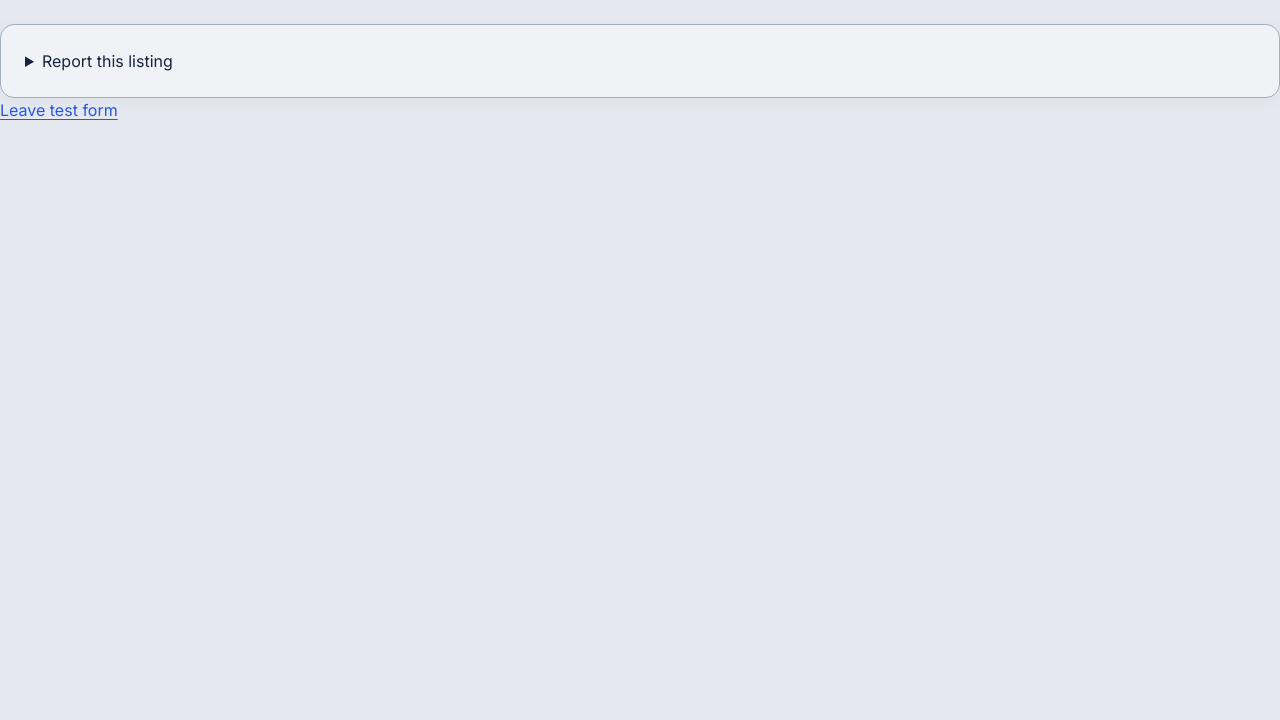
moderation controls › retains a report after failed save and stops blocking only after success
Click the heading "Report this listing": (107,61) [42, 51, 173, 71]
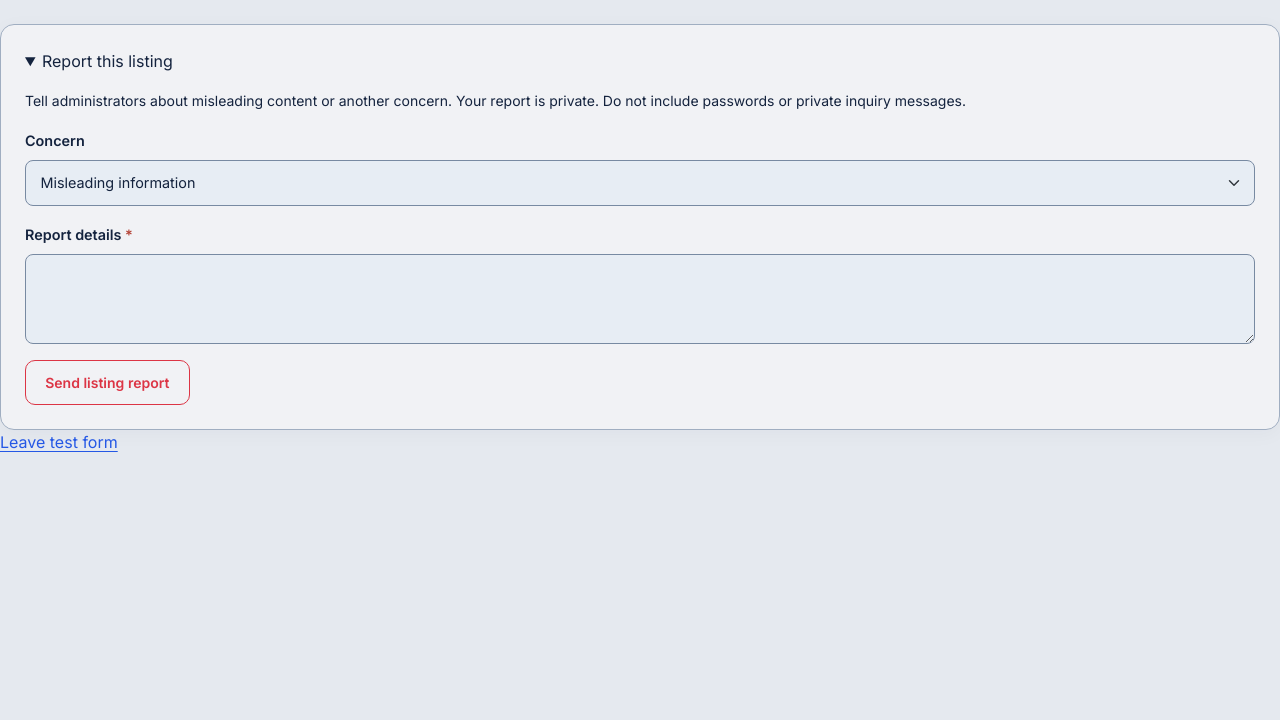
In the text box labelled "Report details": (640,299) [25, 254, 1255, 344], type "Synthetic report that must remain available."
Click the button "Send listing report": (107,382) [25, 360, 190, 405]
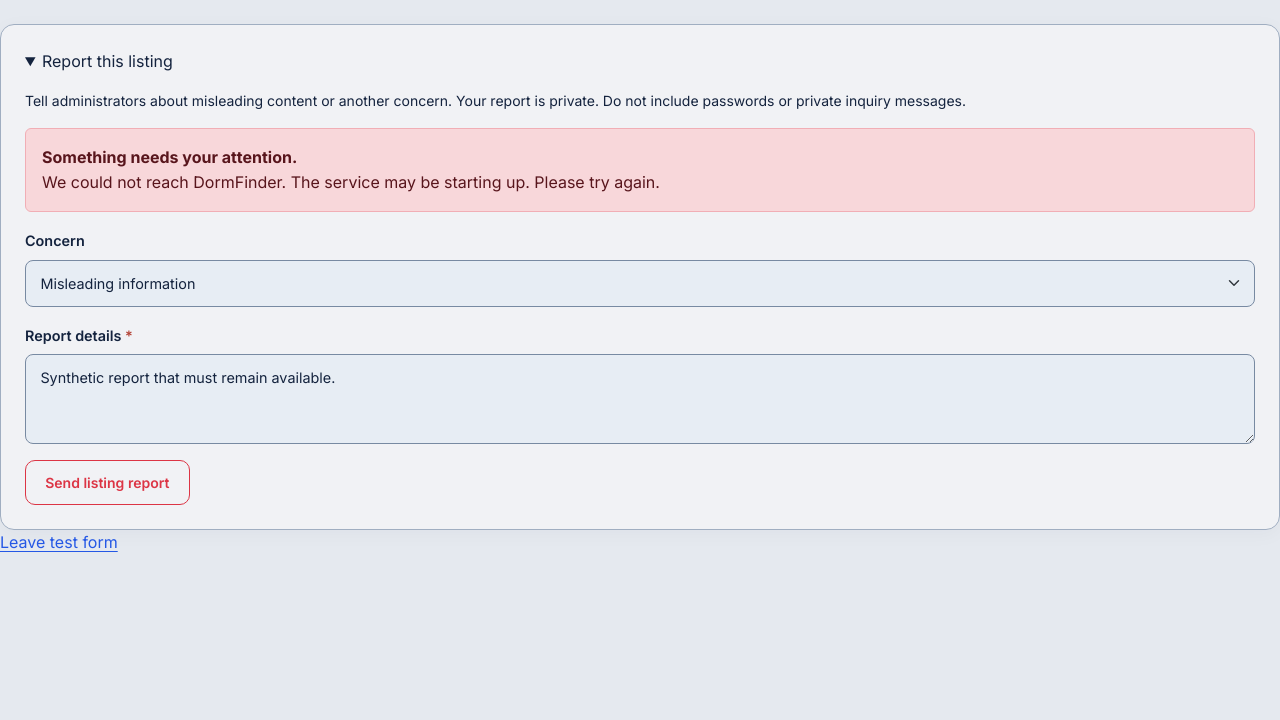
Result: the message is shown at [25, 128, 1255, 212]
Click the link "Leave test form": (59,542) [0, 532, 118, 552]
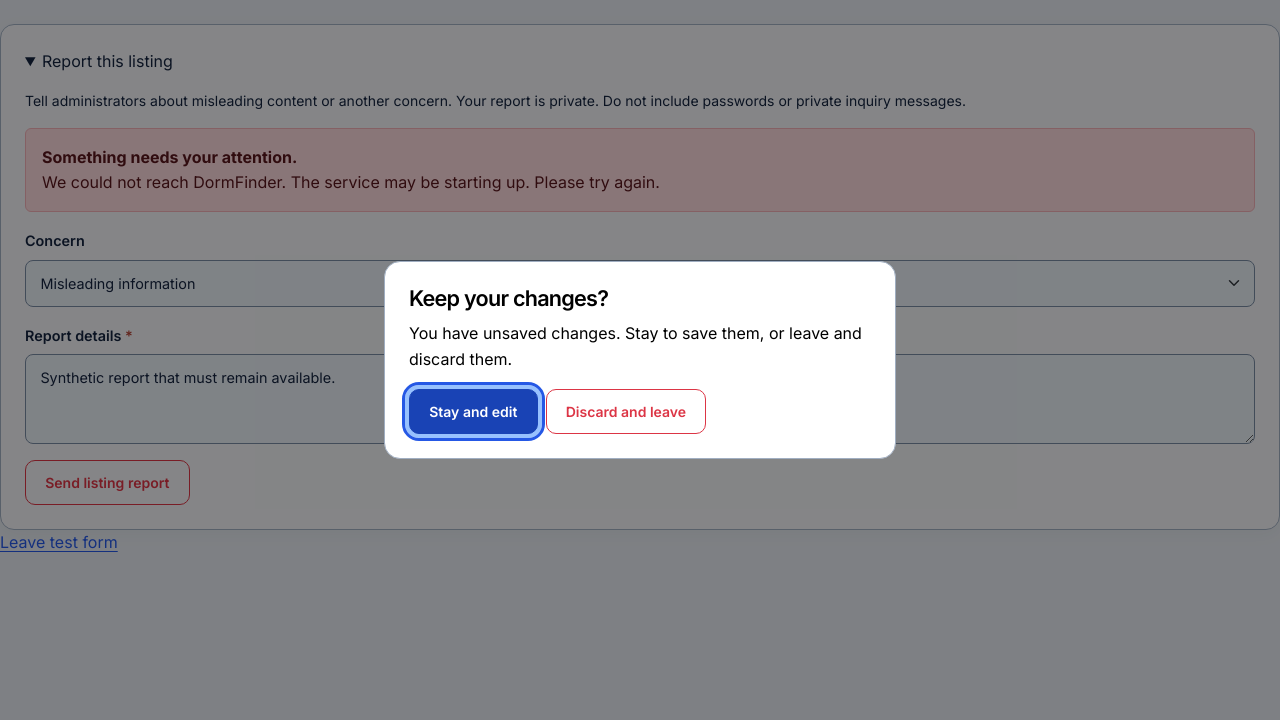
Result: the dialog is shown at [384, 261, 896, 459]
Click the button "Stay and edit": (473,411) [409, 389, 538, 434]
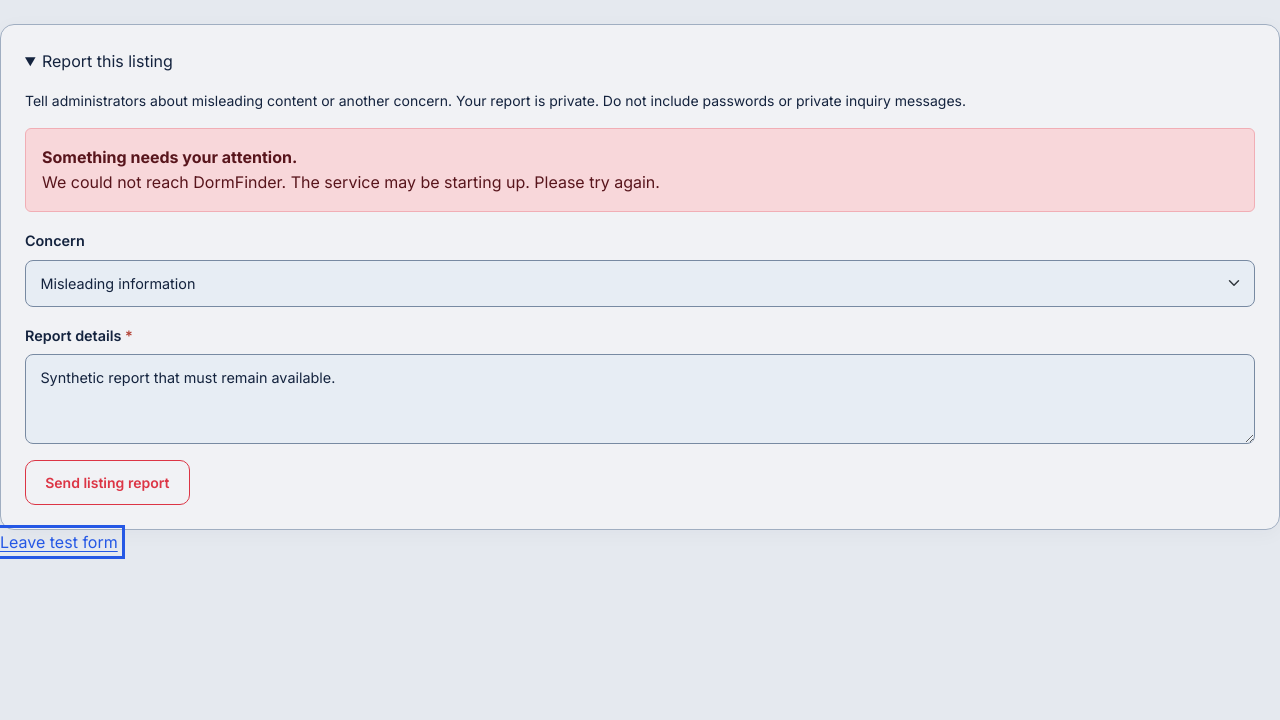
Click the button "Send listing report": (107,483) [25, 460, 190, 506]
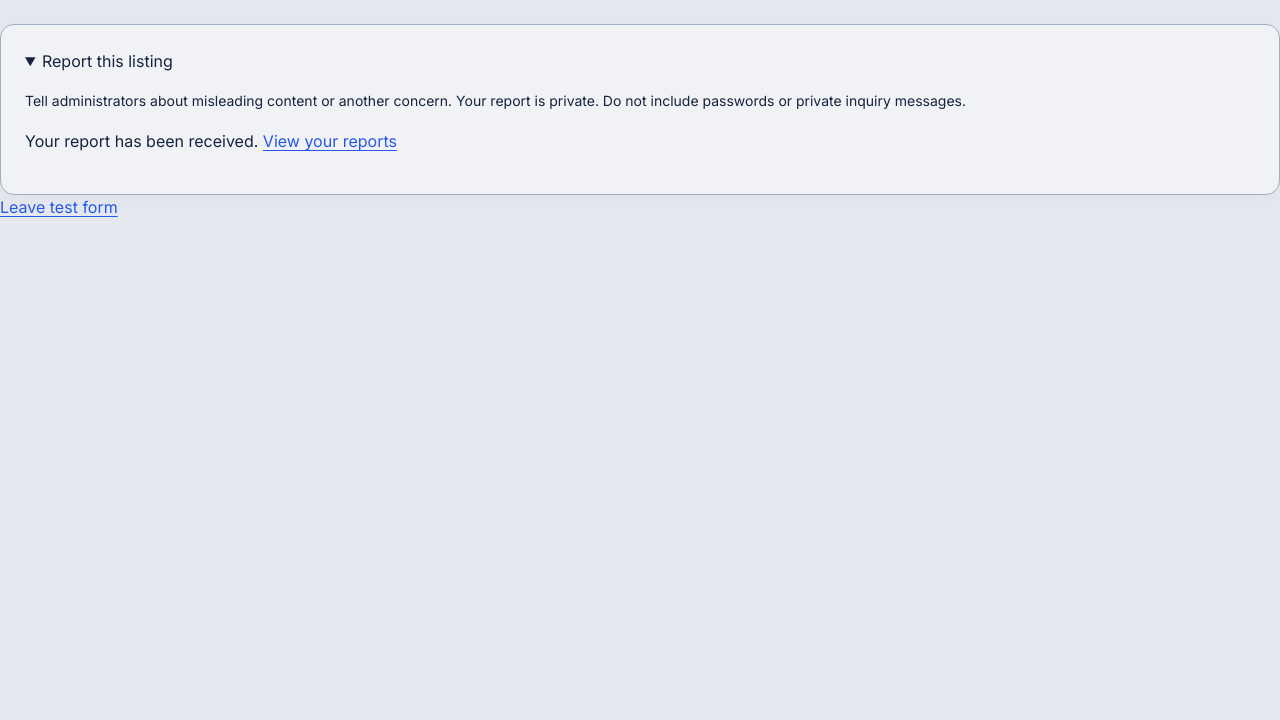
Result: the message "Your report has been received. View your reports" is shown at [25, 131, 397, 151]
Click the link "Leave test form": (59,208) [0, 198, 118, 218]
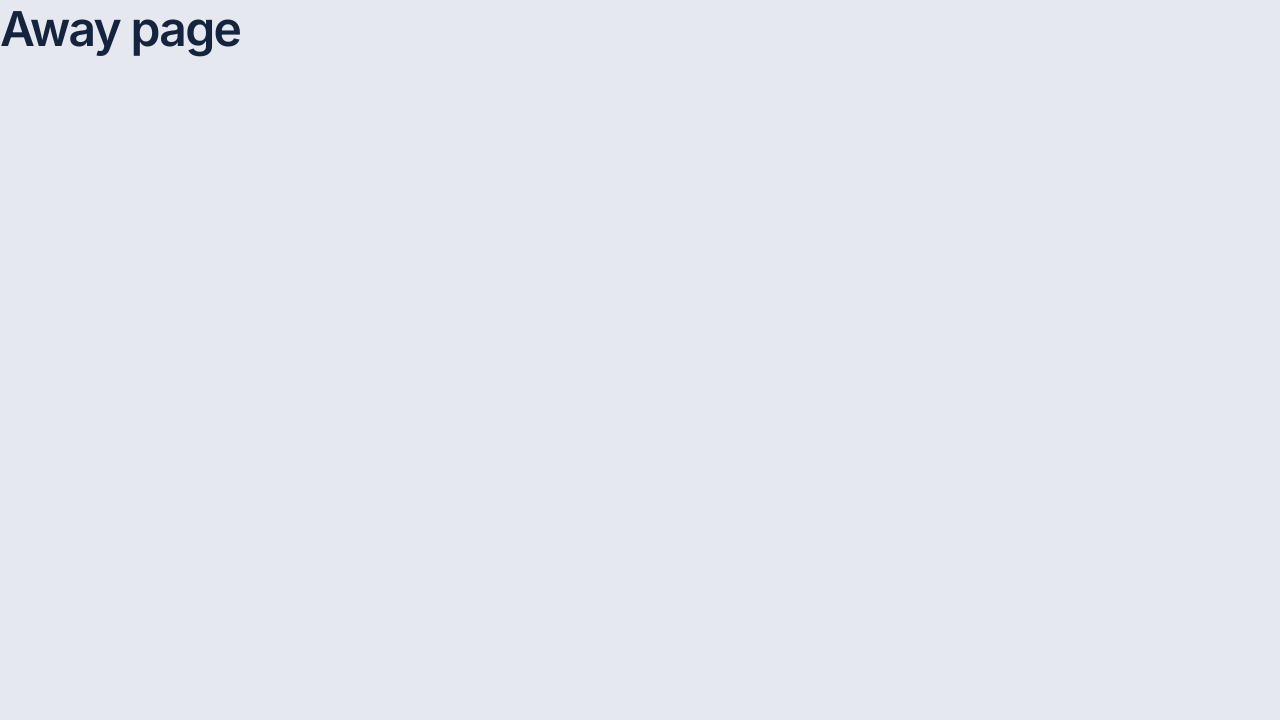
Result: the heading "Away page" is shown at [0, 0, 240, 58]
